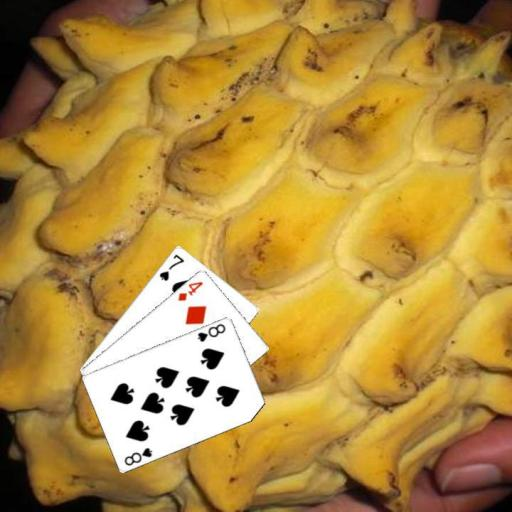4D: (175, 278, 204, 302)
7S: (157, 251, 186, 283)
8S: (194, 320, 227, 343), (121, 444, 154, 467)
